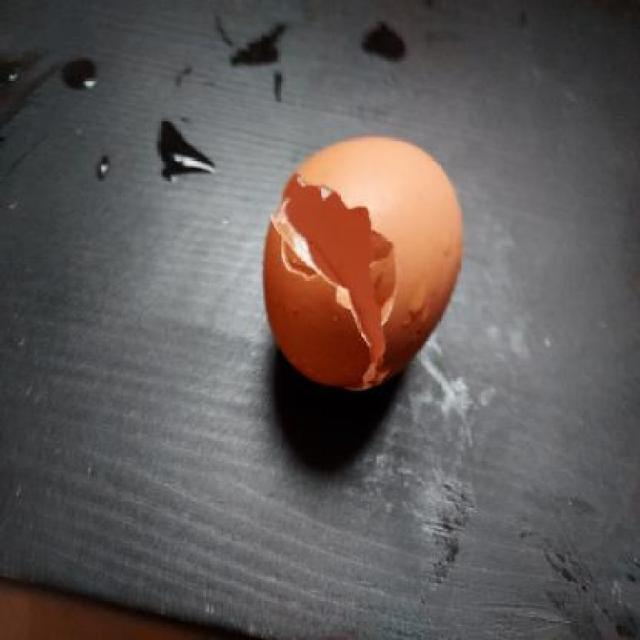biodegradable: (259, 129, 476, 400)
